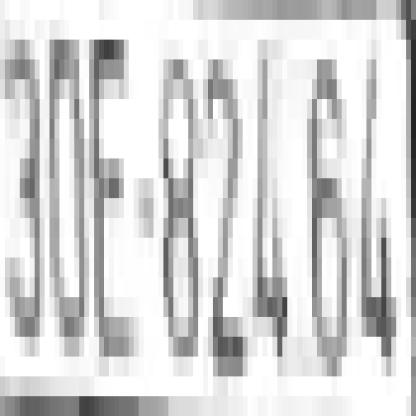0: (50, 59, 89, 337)
2: (208, 60, 238, 356)
3: (5, 40, 45, 336)
4: (357, 60, 391, 356), (248, 59, 282, 337)
6: (302, 60, 342, 356)
8: (159, 59, 198, 337)
E: (94, 40, 134, 317)
